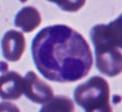E: (32, 24, 92, 82)
